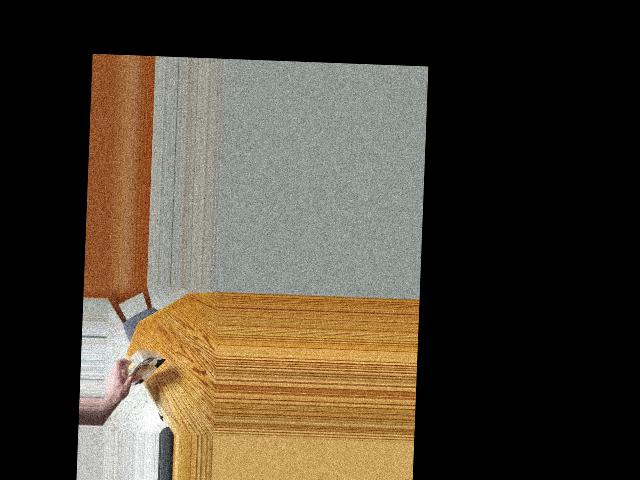cheese: (118, 339, 163, 400)
